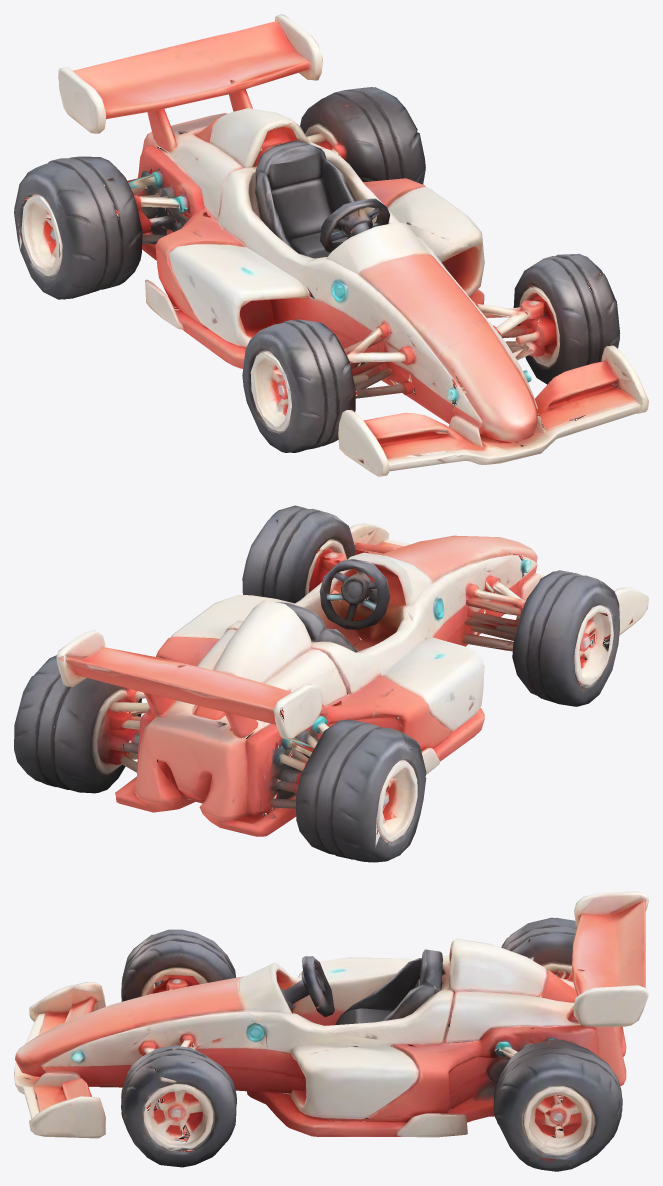
The model's file is comet-mobile.glb.
3 renders of one model, top to bottom at view 1: azimuth 30°, elevation 25°; view 2: azimuth 150°, elevation 25°; view 3: azimuth 270°, elevation 25°, orthographic. The views are drawn at different scales.
Visible parts, largest first — view 1: model; view 2: model; view 3: model.
Boxes of the visible parts, x1=… form: model: x1=14, y1=14, x2=648, y2=476; model: x1=14, y1=505, x2=648, y2=862; model: x1=14, y1=891, x2=648, y2=1171.
Size of the model in its own units: 1.11 by 0.534 by 1.9.
1 material, 1 textured.
